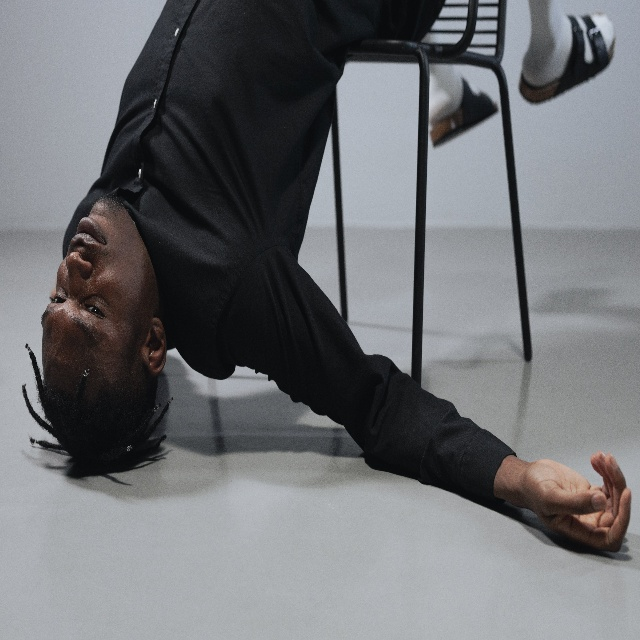Sin_guantes: (526, 449, 632, 555)
